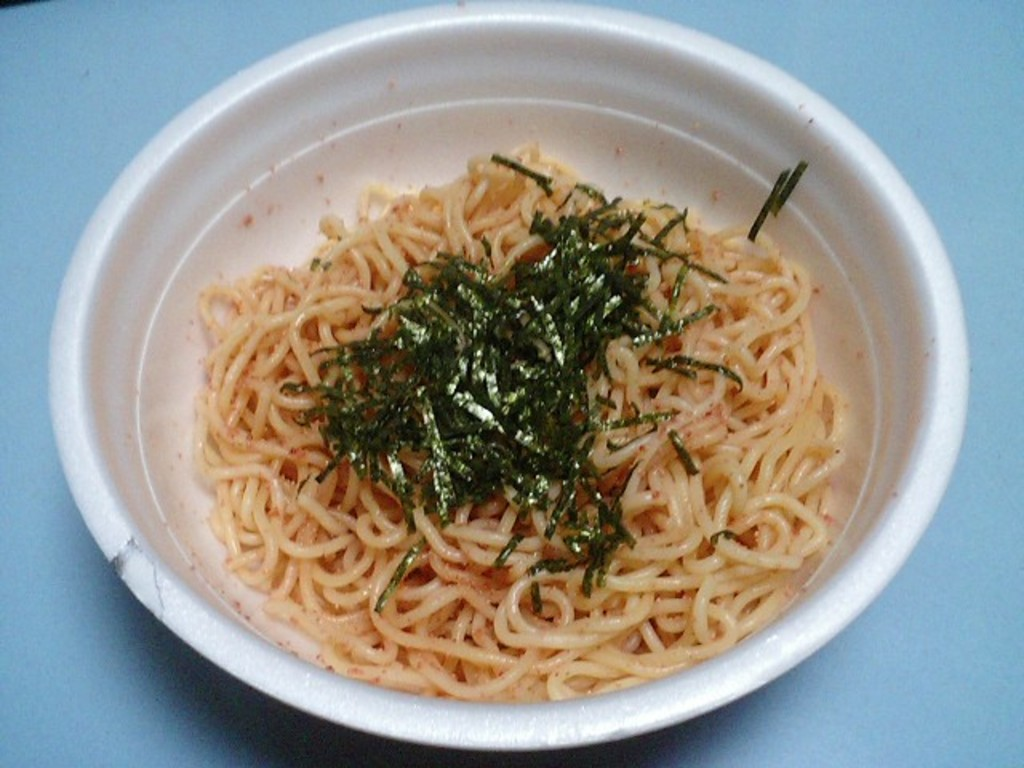pasta: (186, 144, 848, 701)
